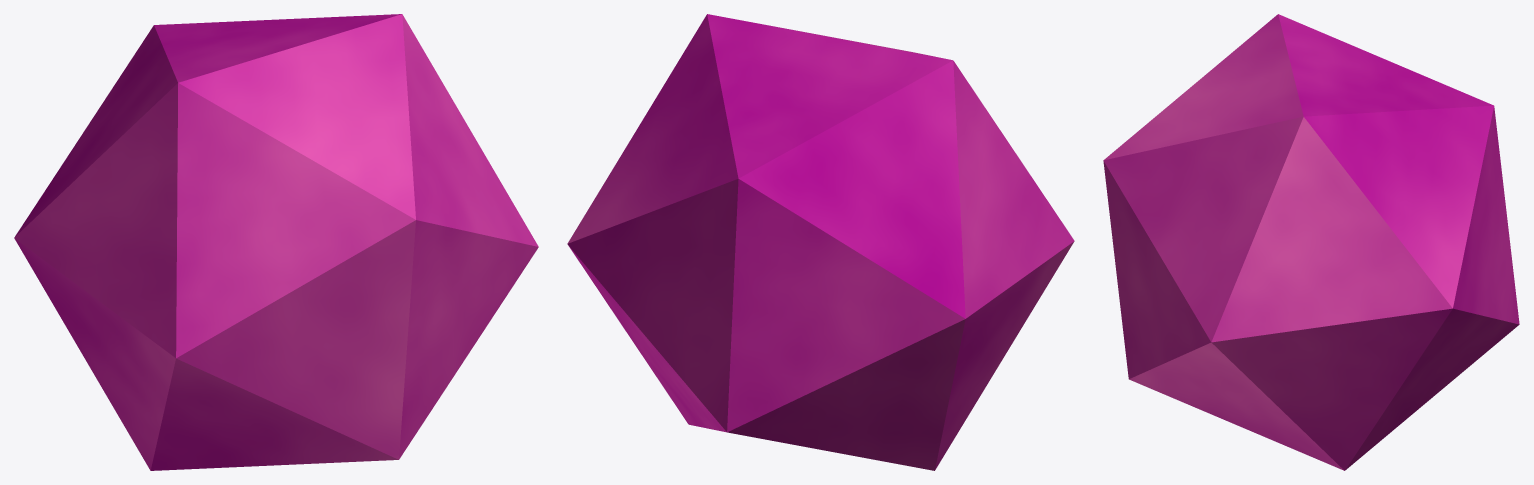
The model's file is Boss.gltf.
The picture shows the model from 3 angles, left to right: view 1: azimuth 30°, elevation 25°; view 2: azimuth 150°, elevation 25°; view 3: azimuth 270°, elevation 25°; orthographic projection. The views are drawn at different scales.
Visible parts, largest first — view 1: Solid; view 2: Solid; view 3: Solid.
Part boxes in pixels (x1,y1,x2,y2): Solid: (14,14,538,470); Solid: (567,14,1074,470); Solid: (1103,14,1519,470).
Size of the model in its own units: 2.03 by 1.9 by 2.02.
1 material, 1 textured.
